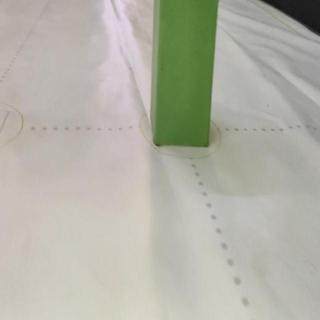greenbox: (151, 0, 218, 146)
